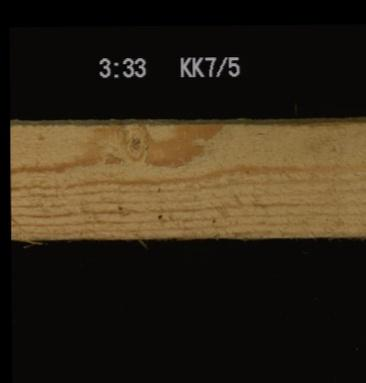sound_knot: (117, 123, 151, 162)
